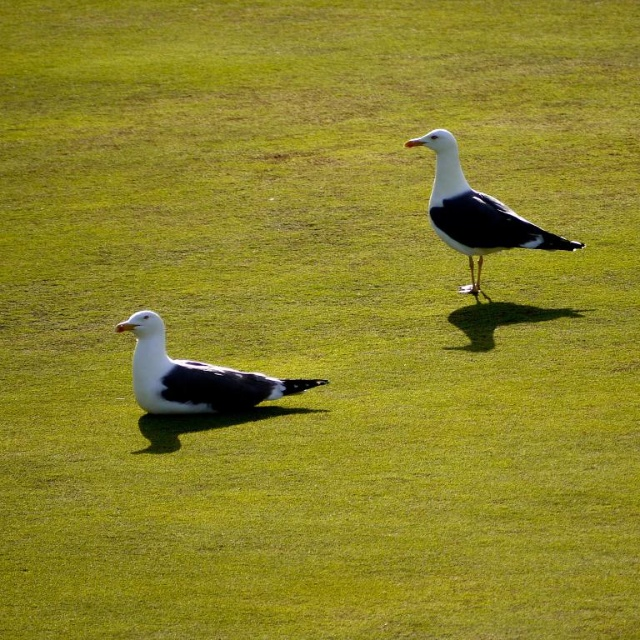Duck: (401, 129, 582, 295), (115, 307, 331, 417)
